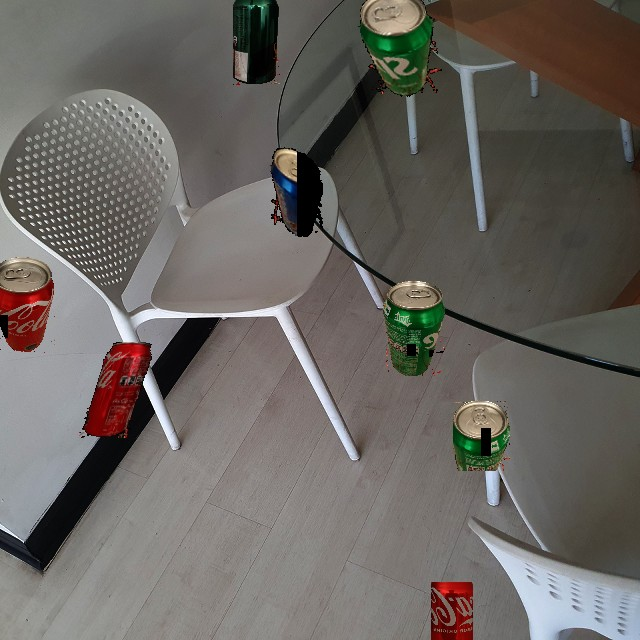coca cola: (78, 342, 157, 438), (0, 257, 55, 353), (431, 582, 473, 640)
pepsi: (247, 140, 347, 245)
schweppes: (233, 0, 280, 85)
sprite: (353, 0, 446, 102), (383, 281, 445, 377), (453, 401, 510, 471)
